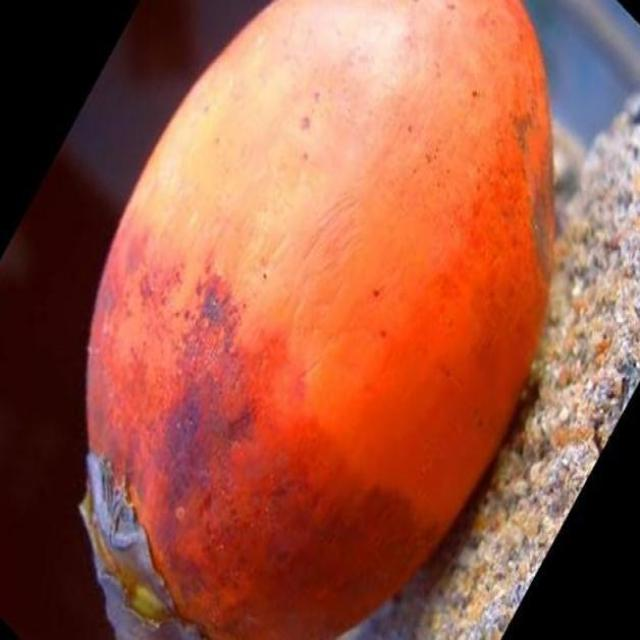good: (79, 0, 552, 639)
